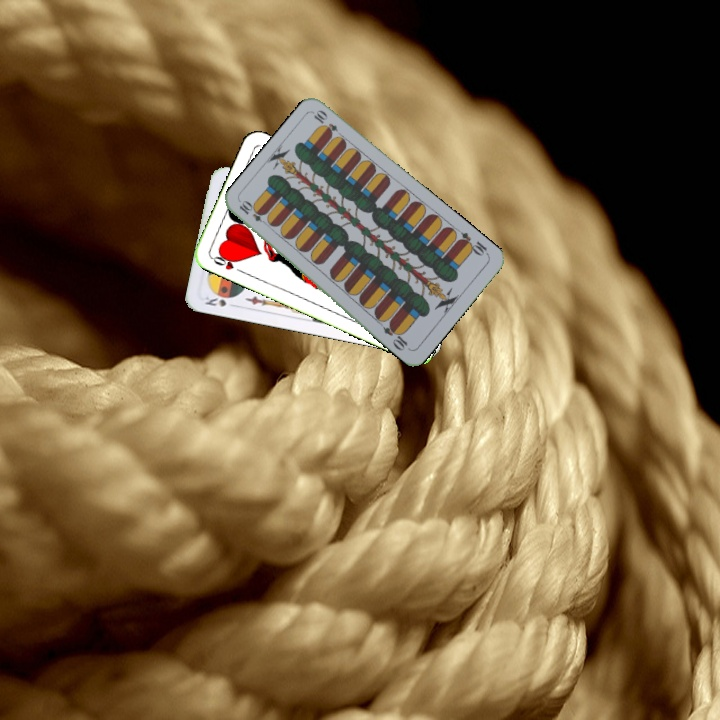E10: (235, 197, 272, 228), (454, 228, 491, 259)
HO: (207, 249, 246, 275)
SK: (201, 292, 240, 310)
